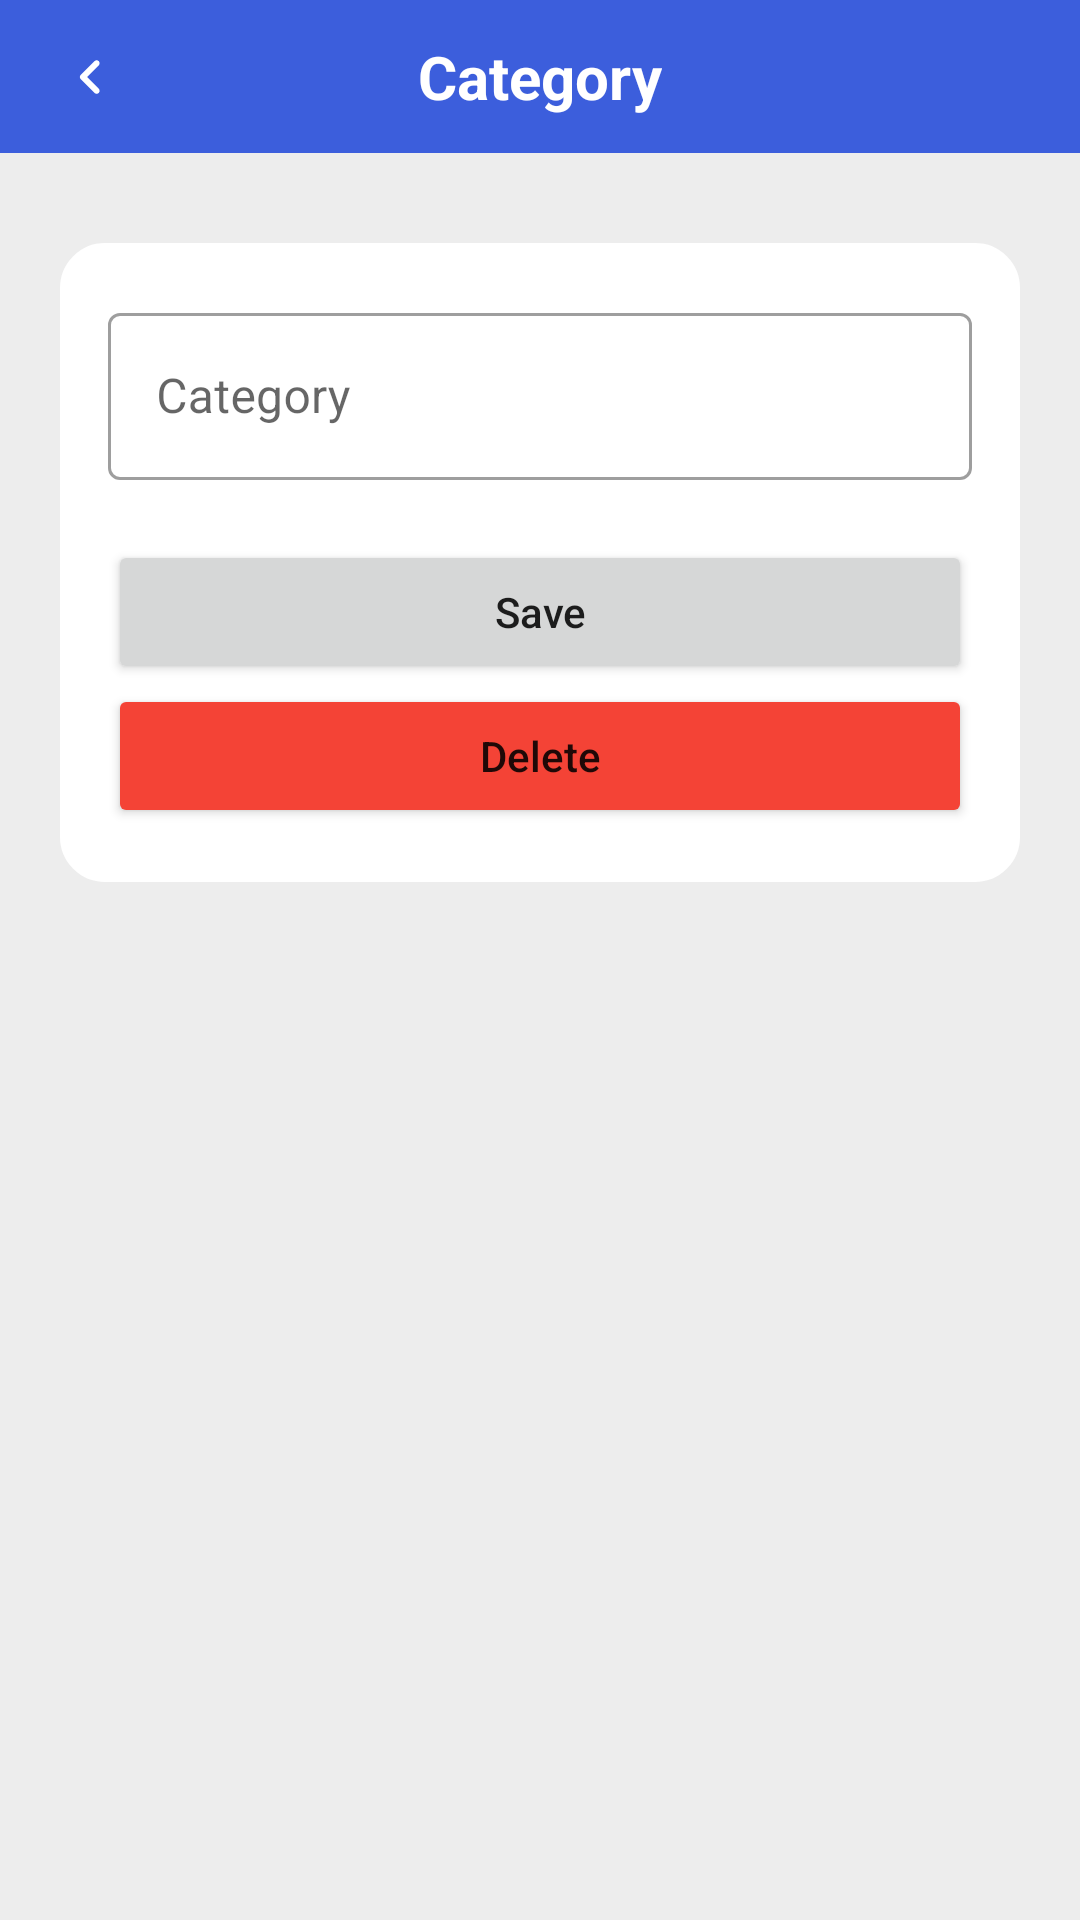

Screen size 1080x1920. Icon name, then its box in pixels as (x1, y1, x2, y2):
navigate before: (80, 60, 100, 94)
